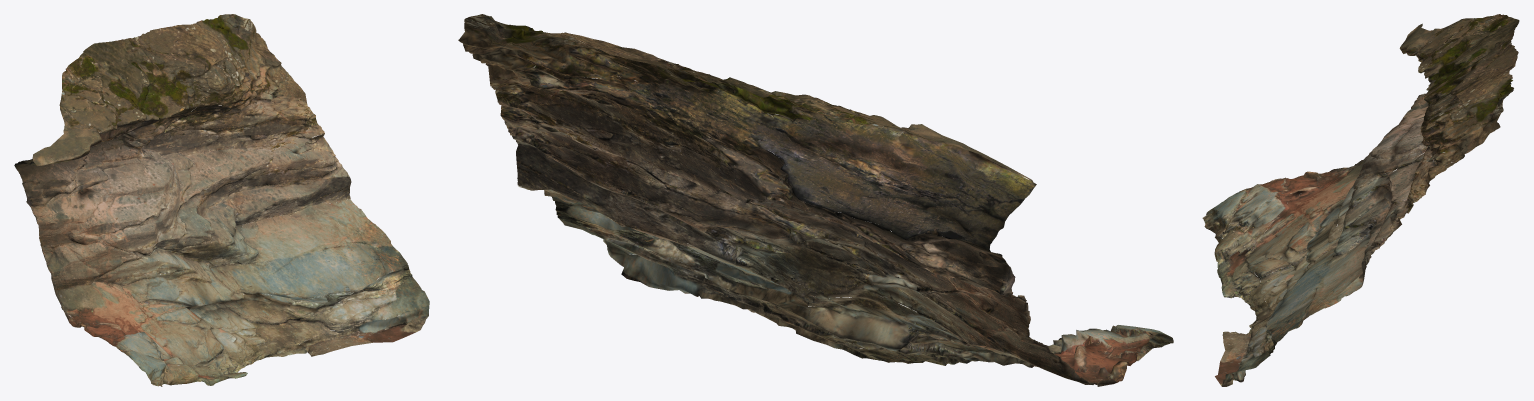
File: rock_face_01.fbx
3 renders of one model, left to right at view 1: azimuth 30°, elevation 25°; view 2: azimuth 150°, elevation 25°; view 3: azimuth 270°, elevation 25°, orthographic. The views are drawn at different scales.
Parts seen in each view (by area): view 1: rock_face_01.001; view 2: rock_face_01.001; view 3: rock_face_01.001.
Part boxes in pixels (left/top/right/bottom): rock_face_01.001: left=14, top=14, right=429, bottom=386; rock_face_01.001: left=458, top=14, right=1173, bottom=386; rock_face_01.001: left=1202, top=14, right=1519, bottom=386.
Bounding box in the file's own units: 4.95 × 3.83 × 3.57.
